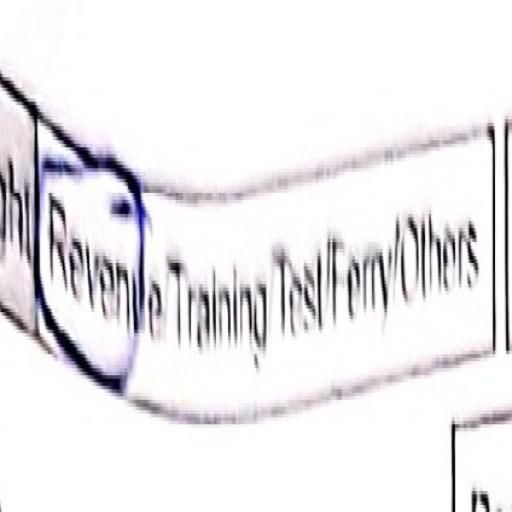check: (42, 83, 162, 489)
